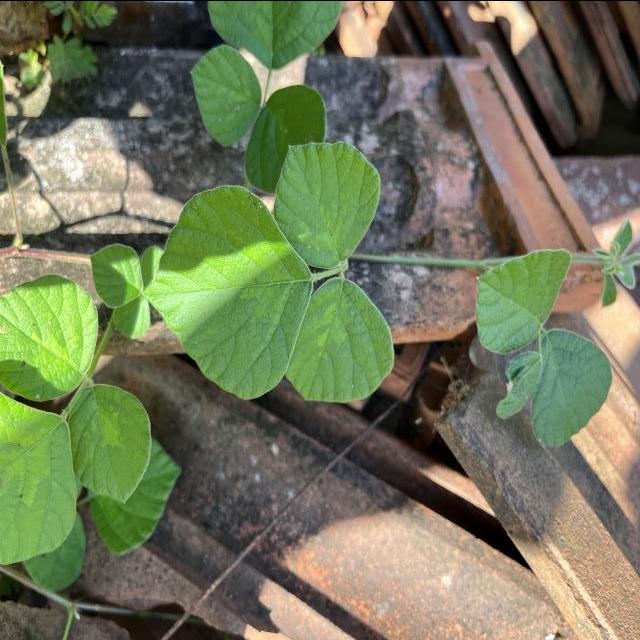Pseudarthria viscida: (140, 137, 398, 410)
